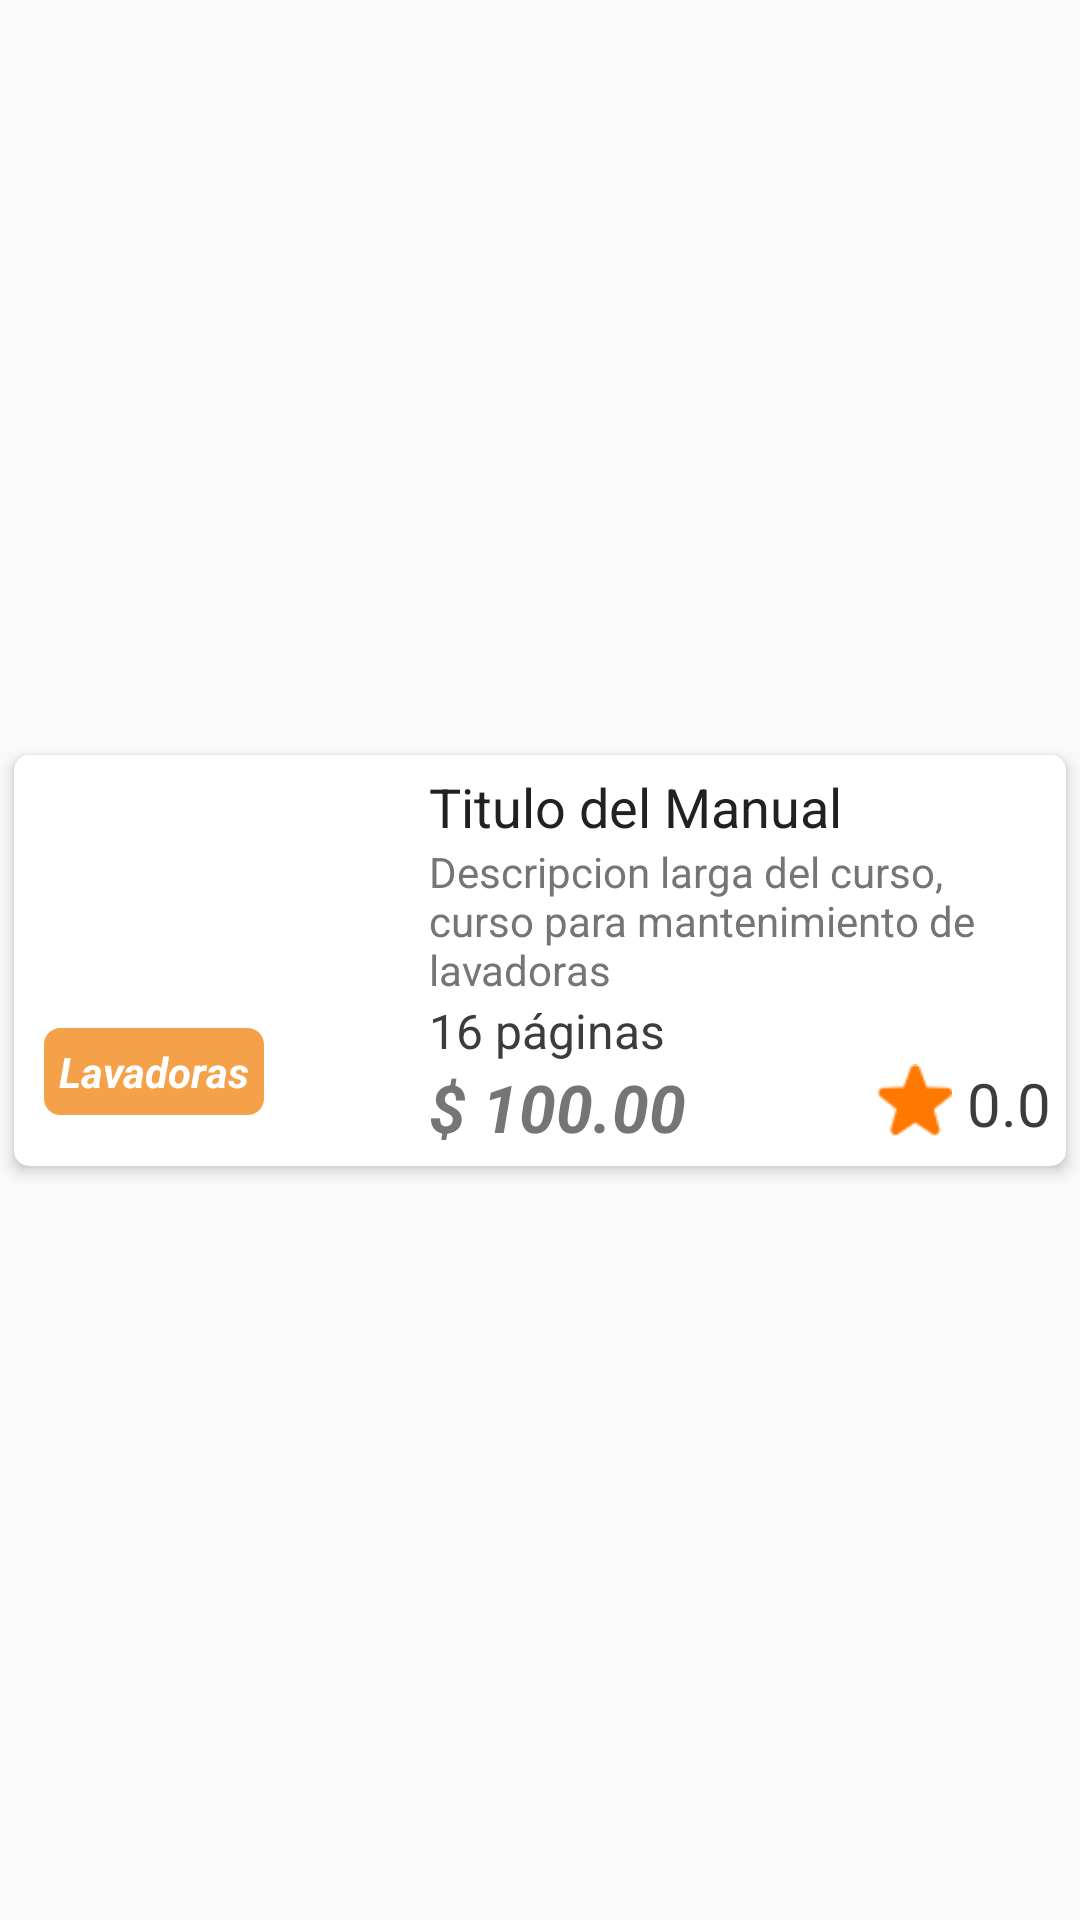

Where icons sit on this 1080px×1920px app screen, as (x1, y1, x2, y2):
star: (877, 1064, 952, 1136)
